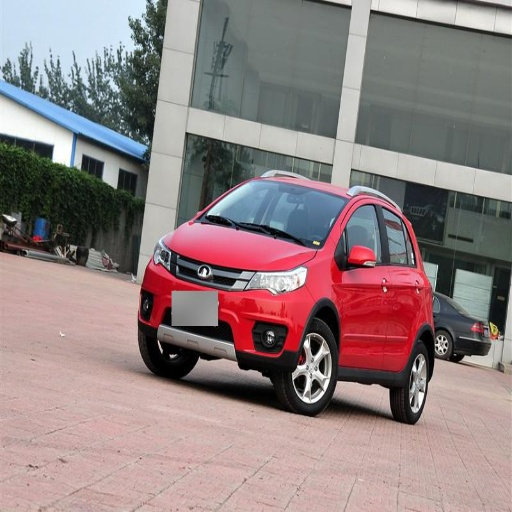front_bumper: (137, 254, 308, 364)
front_glass: (194, 180, 345, 249)
front_left_door: (338, 197, 388, 368)
